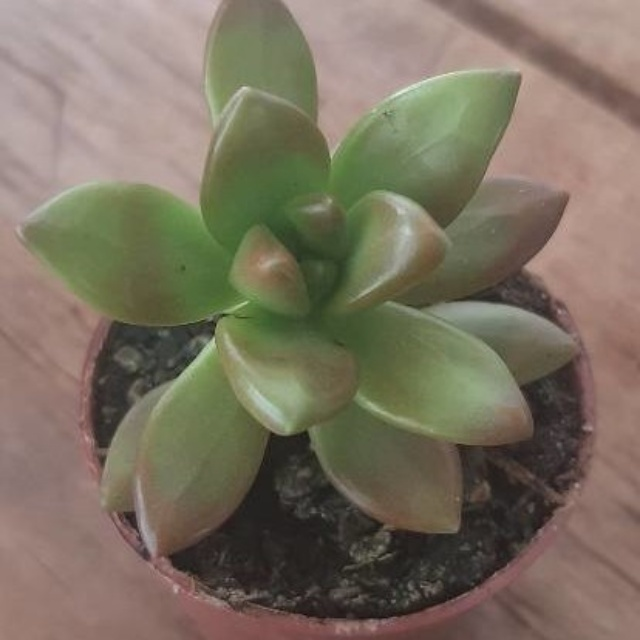obstacle: (42, 17, 620, 629)
